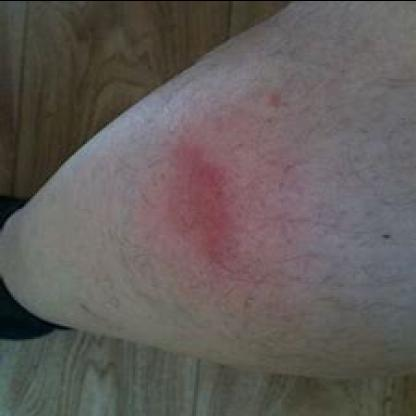Wasp: (165, 130, 233, 268)
